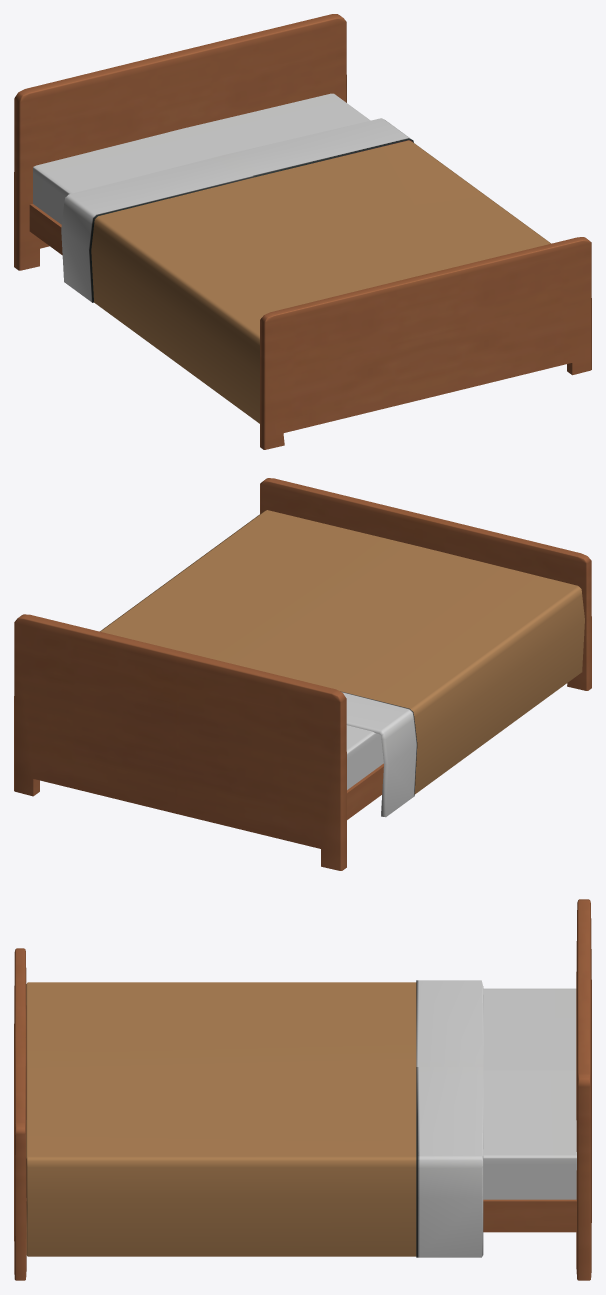
The model's file is Bed_002.fbx.
3 renders of one model, top to bottom at view 1: azimuth 30°, elevation 25°; view 2: azimuth 150°, elevation 25°; view 3: azimuth 270°, elevation 25°, orthographic. The views are drawn at different scales.
Parts seen in each view (by area): view 1: Bed_002_01; view 2: Bed_002_01; view 3: Bed_002_01.
Part boxes in pixels (x1=…): Bed_002_01: x1=14, y1=14, x2=591, y2=449; Bed_002_01: x1=14, y1=478, x2=591, y2=870; Bed_002_01: x1=14, y1=899, x2=591, y2=1280.
Bounding box in the file's own units: 6.88 × 3.51 × 9.13.
